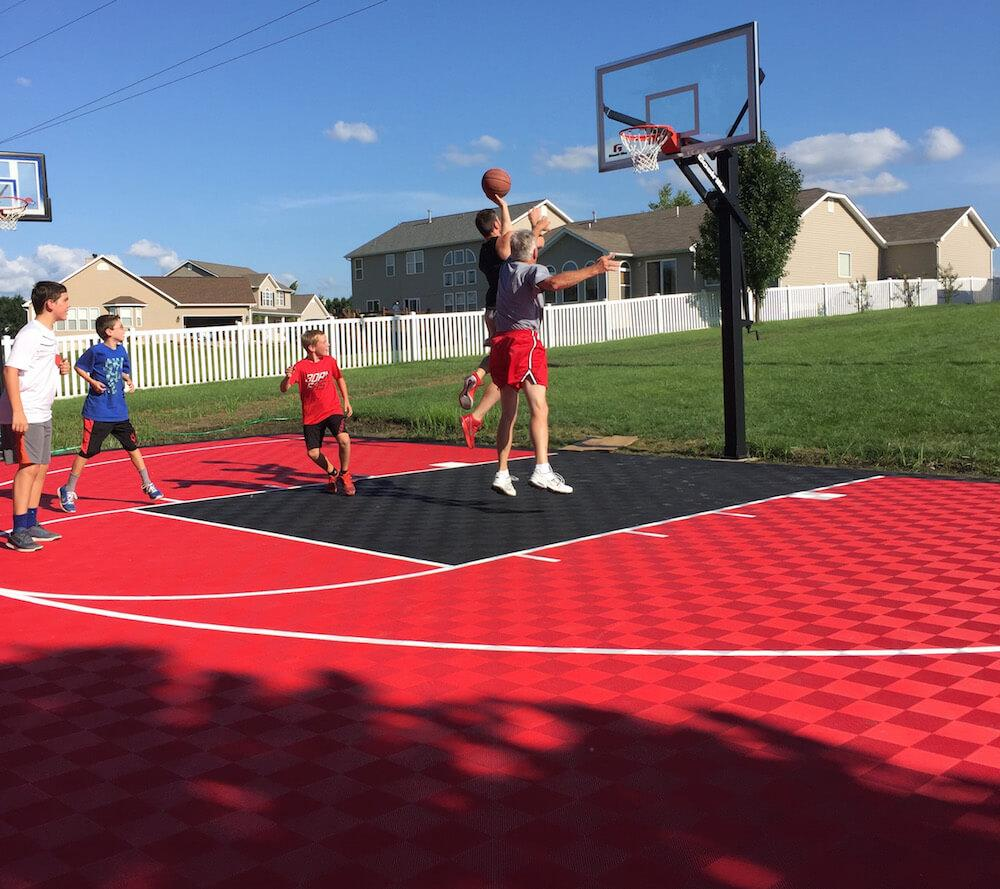basketball: (479, 166, 513, 200)
